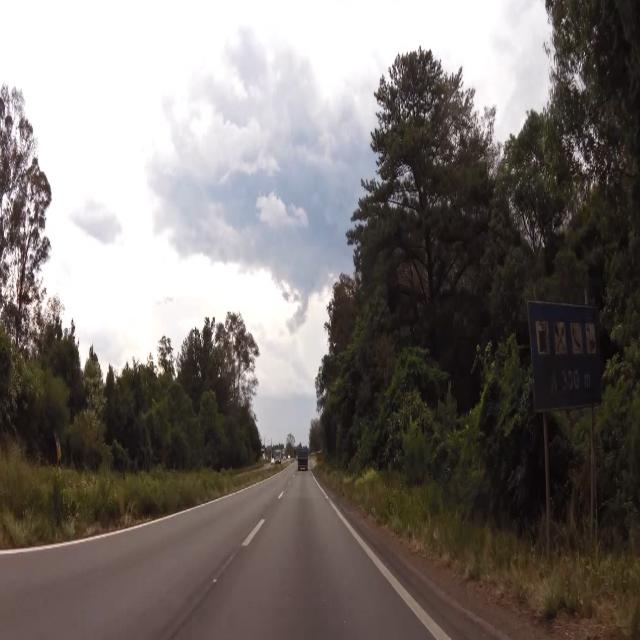LOC-6: (526, 298, 606, 411)
